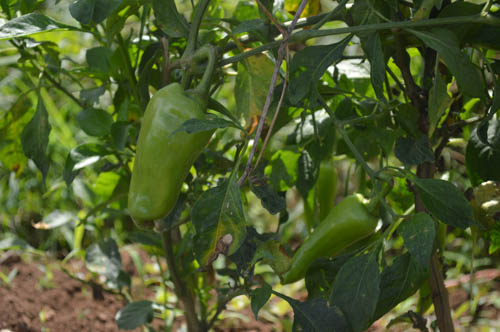ChiliPepper: (127, 84, 210, 224), (287, 193, 375, 284), (310, 167, 334, 210)
